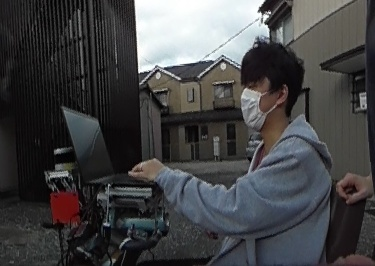person: (184, 38, 339, 266)
